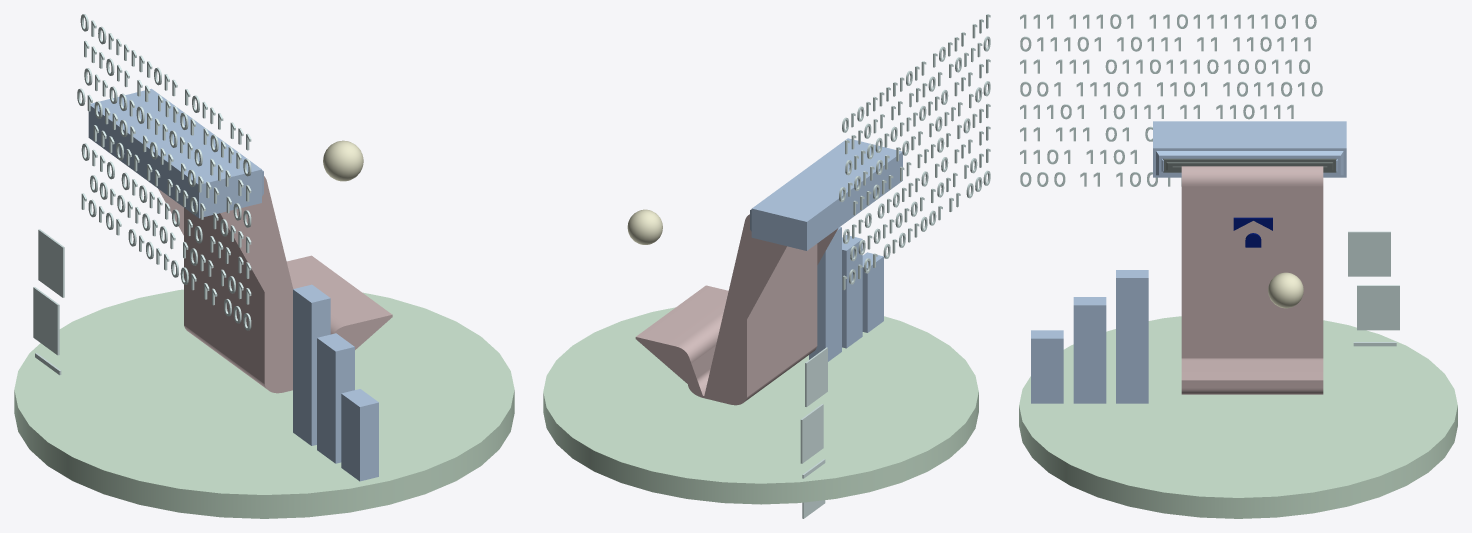
Rendered from paper feed.fbx.
3 views of the same model, side by side, from view 1: azimuth 30°, elevation 25°; view 2: azimuth 150°, elevation 25°; view 3: azimuth 270°, elevation 25° (orthographic). The views are drawn at different scales.
Parts seen in each view (by area): view 1: Cylinder, Path, Cube, Cap_1_3, Cube_1, Cube_2, Cube_3, Sphere, Cap_2_5, Cap_2_4; view 2: Cylinder, Path, Cube, Cap_2_3, Cube_1, Cube_2, Cube_3, Sphere, Cap_2_5, Cap_2_4; view 3: Cylinder, Path, Cube, Cube_1, Cube_2, Cube_3, Cap_1_4, Cap_1_5, Cube_4, Sphere.
Boxes of the visible parts, x1=… form: Cylinder: x1=14, y1=289, x2=514, y2=518; Path: x1=184, y1=208, x2=391, y2=388; Cube: x1=88, y1=88, x2=263, y2=218; Cap_1_3: x1=220, y1=176, x2=392, y2=393; Cube_1: x1=293, y1=284, x2=330, y2=445; Cube_2: x1=317, y1=333, x2=354, y2=463; Cube_3: x1=341, y1=389, x2=378, y2=481; Sphere: x1=323, y1=140, x2=363, y2=181; Cap_2_5: x1=33, y1=287, x2=57, y2=354; Cap_2_4: x1=38, y1=230, x2=62, y2=297; Cylinder: x1=543, y1=307, x2=978, y2=504; Path: x1=636, y1=244, x2=817, y2=401; Cube: x1=750, y1=138, x2=902, y2=250; Cap_2_3: x1=635, y1=214, x2=786, y2=405; Cube_1: x1=809, y1=227, x2=841, y2=361; Cube_2: x1=842, y1=235, x2=862, y2=348; Cube_3: x1=862, y1=252, x2=883, y2=332; Sphere: x1=627, y1=209, x2=662, y2=244; Cap_2_5: x1=802, y1=404, x2=823, y2=463; Cap_2_4: x1=806, y1=348, x2=827, y2=406; Cylinder: x1=1019, y1=316, x2=1457, y2=518; Path: x1=1181, y1=166, x2=1323, y2=394; Cube: x1=1153, y1=121, x2=1346, y2=177; Cube_1: x1=1116, y1=270, x2=1148, y2=403; Cube_2: x1=1073, y1=297, x2=1106, y2=403; Cube_3: x1=1031, y1=330, x2=1063, y2=403; Cap_1_4: x1=1348, y1=232, x2=1390, y2=276; Cap_1_5: x1=1357, y1=286, x2=1399, y2=330; Cube_4: x1=1163, y1=158, x2=1336, y2=172; Sphere: x1=1268, y1=272, x2=1303, y2=308.
Bounding box in the file's own units: 440 × 412 × 440.
